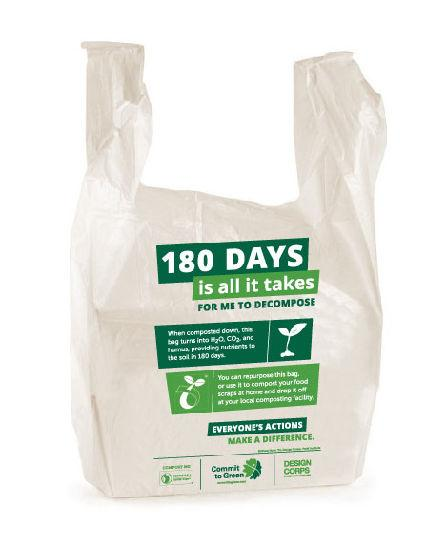LDPE: (70, 40, 384, 502)
